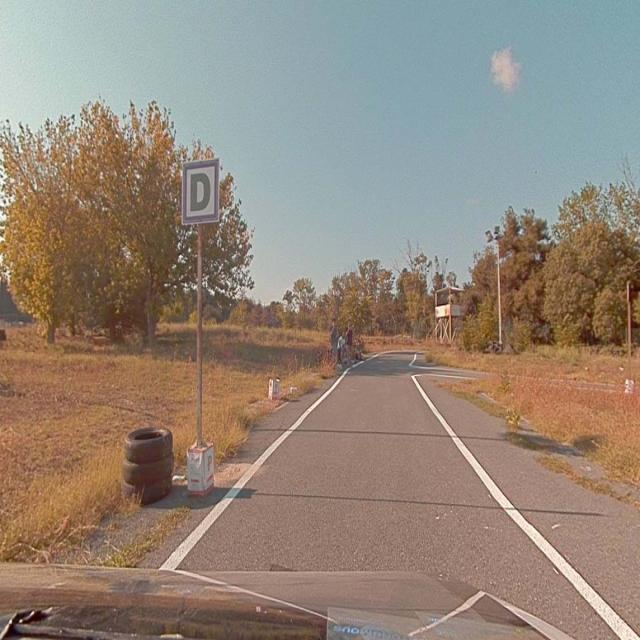durak: (182, 162, 218, 221)
